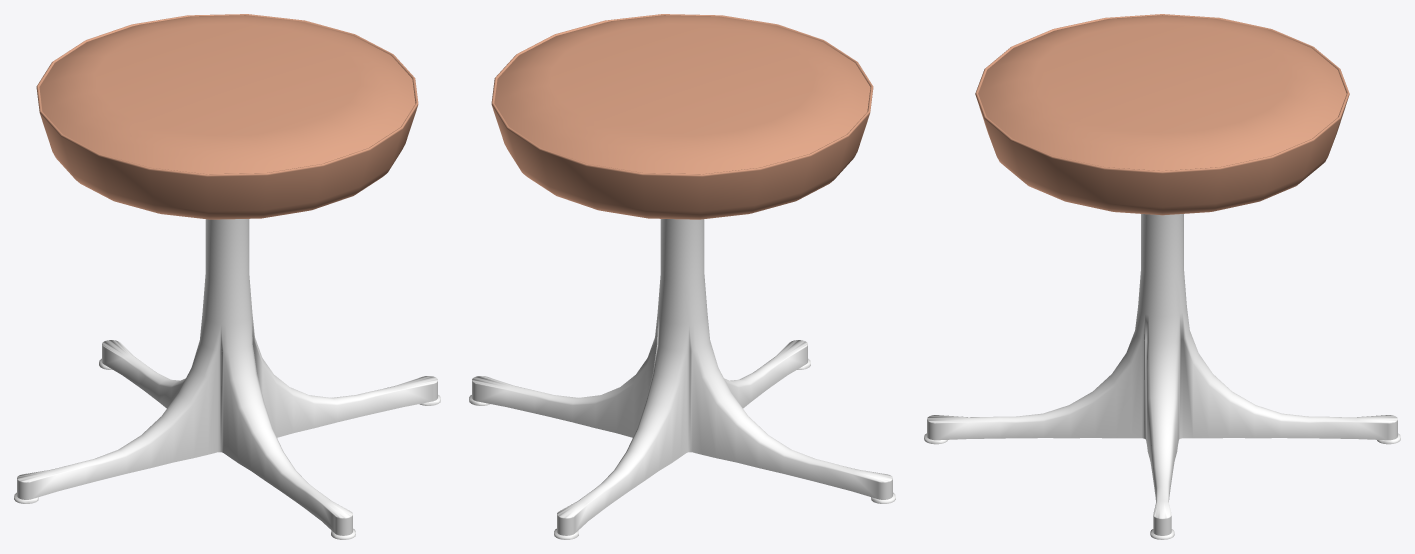
The model's file is HMI_Nelson_Pedestal_Stool_3D.fbx.
3 views of the same model, side by side, from view 1: azimuth 30°, elevation 25°; view 2: azimuth 150°, elevation 25°; view 3: azimuth 270°, elevation 25° (orthographic). The views are drawn at different scales.
Parts seen in each view (by area): view 1: polySurface1; view 2: polySurface1; view 3: polySurface1.
Part boxes in pixels (x1=…): polySurface1: x1=14, y1=14, x2=440, y2=539; polySurface1: x1=469, y1=14, x2=895, y2=539; polySurface1: x1=924, y1=14, x2=1400, y2=539.
Size of the model in its own units: 19.5 by 16.28 by 19.5.
